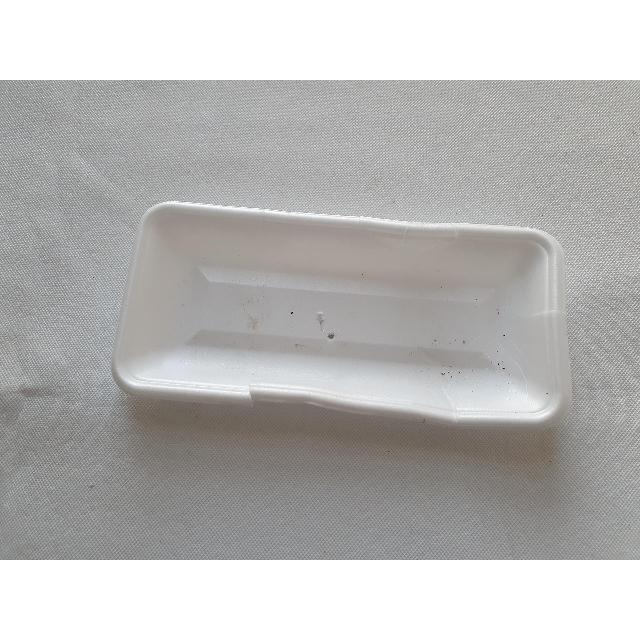Plastico descartable: (111, 203, 573, 430)
